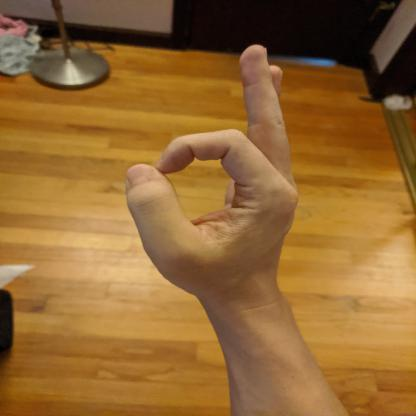F: (120, 42, 306, 299)
